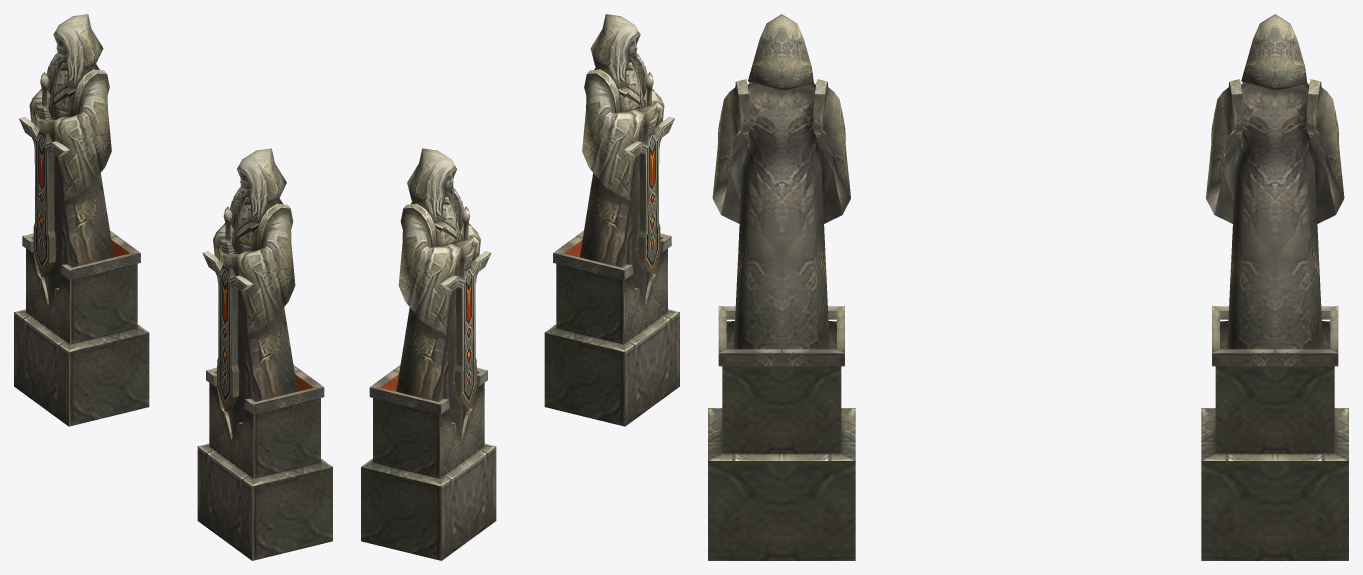
The model's file is Maincity_SculptureGuards.FBX.
3 views of the same model, side by side, from view 1: azimuth 30°, elevation 25°; view 2: azimuth 150°, elevation 25°; view 3: azimuth 270°, elevation 25° (orthographic). The views are drawn at different scales.
Parts seen in each view (by area): view 1: Maincity_Statue01, Maincity_Statue003; view 2: Maincity_Statue003, Maincity_Statue01; view 3: Maincity_Statue003, Maincity_Statue01.
Boxes of the visible parts, left/top/right/bottom form: Maincity_Statue01: left=197, top=148, right=332, bottom=560; Maincity_Statue003: left=14, top=14, right=149, bottom=426; Maincity_Statue003: left=361, top=148, right=496, bottom=560; Maincity_Statue01: left=544, top=14, right=679, bottom=426; Maincity_Statue003: left=1201, top=14, right=1348, bottom=560; Maincity_Statue01: left=708, top=14, right=855, bottom=560.
Bounding box in the file's own units: 487 × 2106 × 2386.
